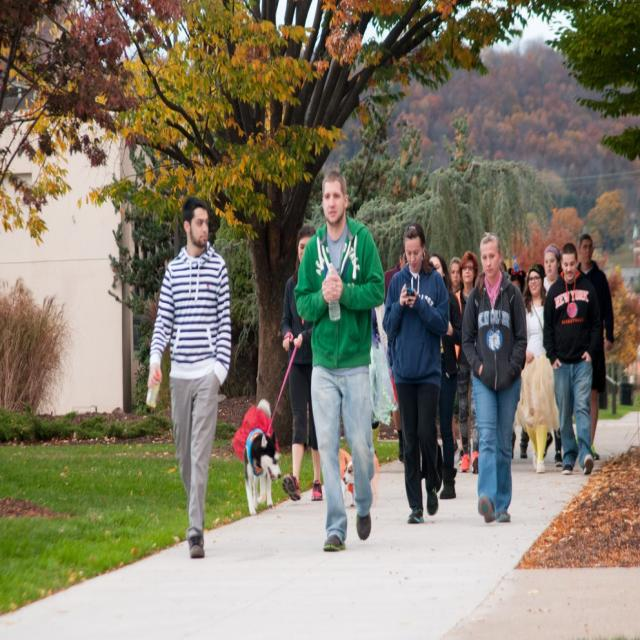body: (291, 168, 388, 556), (145, 192, 235, 562), (381, 218, 451, 526), (459, 230, 529, 526), (540, 240, 602, 477), (279, 221, 325, 506), (512, 260, 562, 476), (571, 231, 614, 462), (429, 254, 463, 502), (368, 293, 407, 465), (383, 243, 412, 464), (452, 249, 480, 475), (542, 243, 564, 469), (507, 266, 527, 296), (448, 256, 462, 294), (502, 254, 509, 288), (628, 371, 637, 391)
